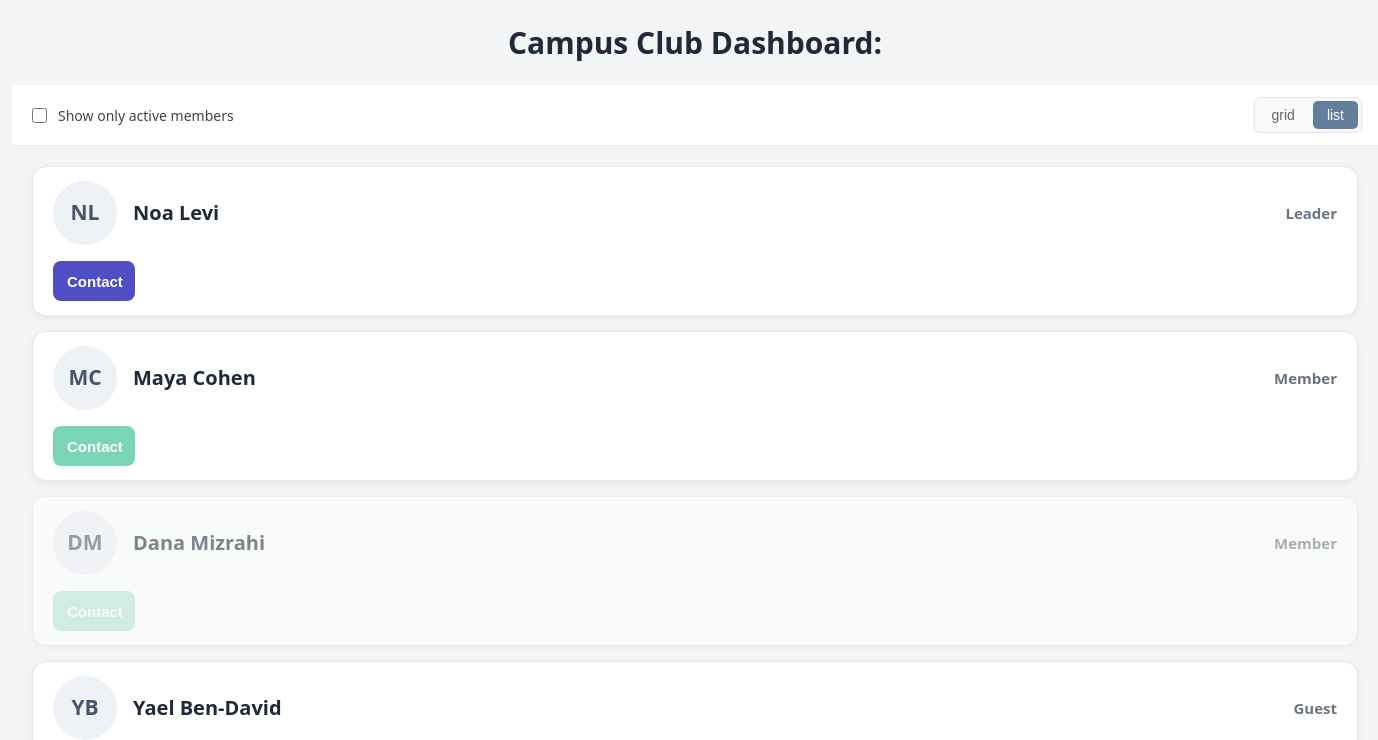
Test: App (selectedMemberId state): a member without tasks shows 'No tasks yet'
Click the heading "Yael Ben-David" at (207, 708), box [133,694,282,721]
(page scrolled)
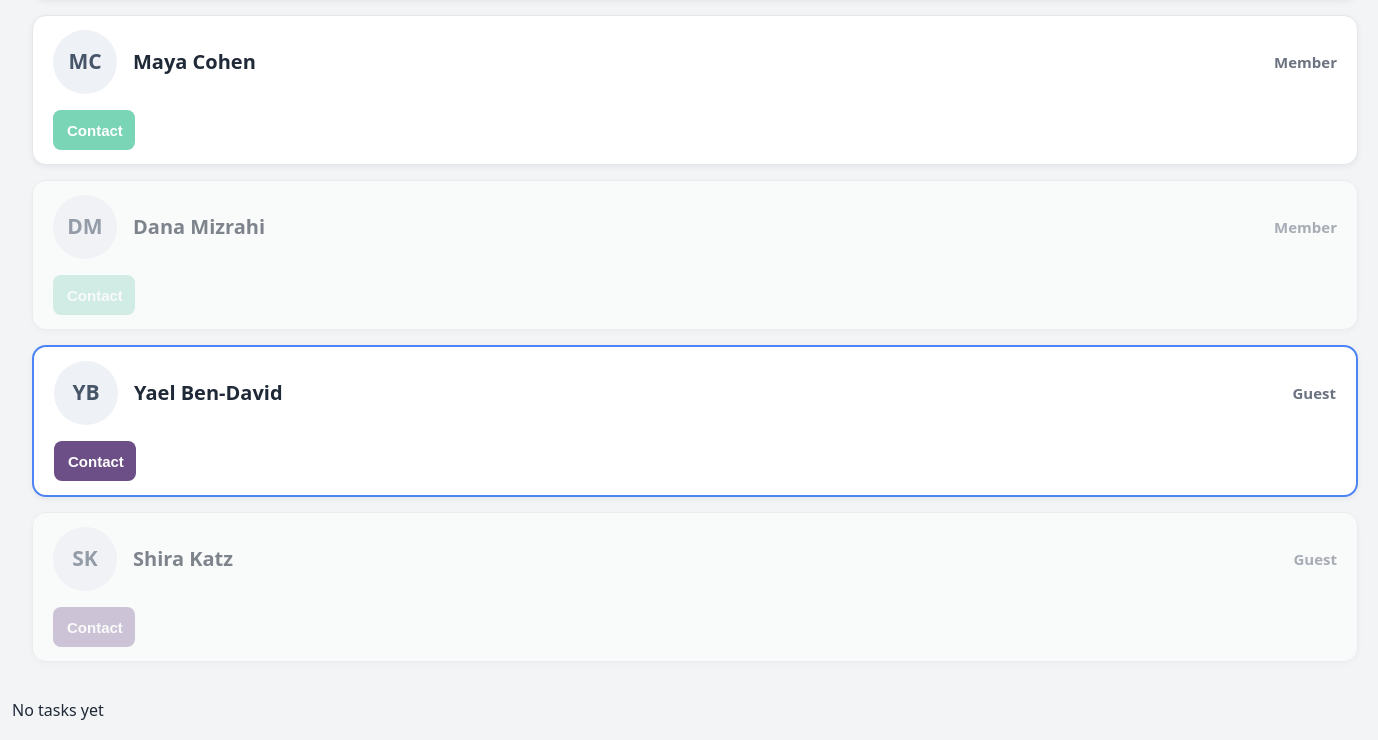
Expected: the text "No tasks yet" is shown, [12,699,104,721]
